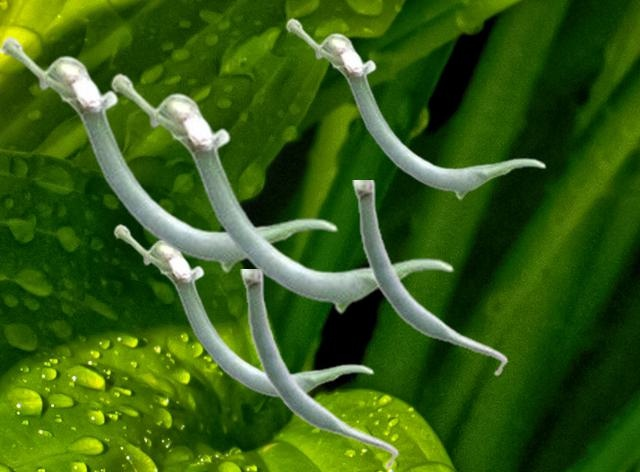french_bean: (110, 72, 453, 313), (0, 35, 337, 272), (285, 17, 545, 199), (113, 223, 373, 405), (240, 269, 398, 469), (352, 180, 507, 376)
